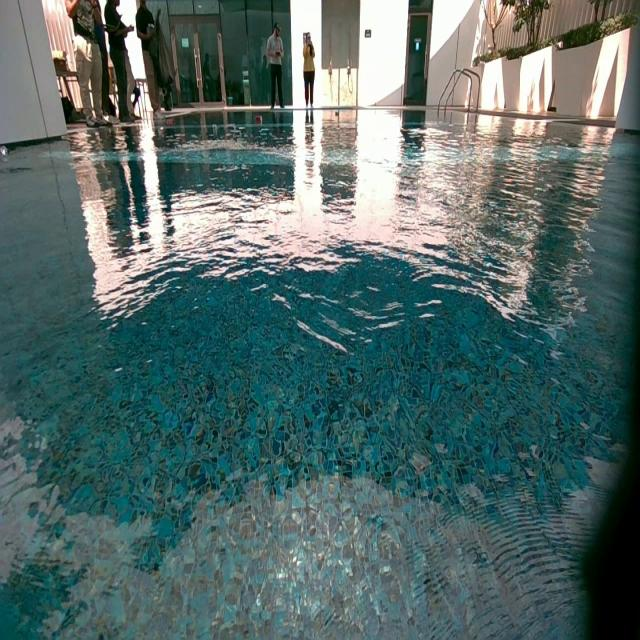Cans: (227, 123, 237, 132), (0, 146, 8, 156), (254, 115, 262, 123), (167, 119, 173, 125), (159, 126, 164, 133), (212, 124, 216, 130)
